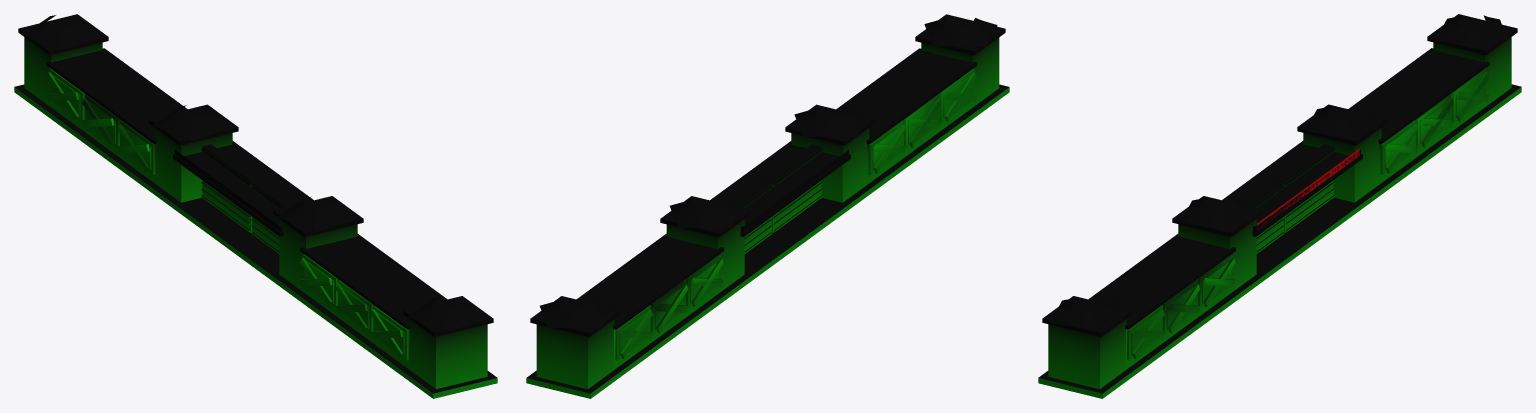
The model's file is l_lightgate.glb.
The picture shows the model from 3 angles, left to right: view 1: azimuth 30°, elevation 25°; view 2: azimuth 150°, elevation 25°; view 3: azimuth 330°, elevation 25°; orthographic projection.
Visible parts, largest first — view 1: lod0, door_l, door_r; view 2: lod0, door_r, door_l; view 3: lod0, door_l, door_r.
Part boxes in pixels (x1,y1,x2,y2): lod0: (14,14,497,398); door_l: (201,144,259,232); door_r: (252,180,293,253); lod0: (526,14,1009,398); door_r: (764,144,822,233); door_l: (732,180,771,253); lod0: (1038,14,1521,398); door_l: (1276,144,1334,232); door_r: (1245,180,1283,253).
Size of what is drawn, in the model's own units: 5.39 by 6.02 by 56.87.
